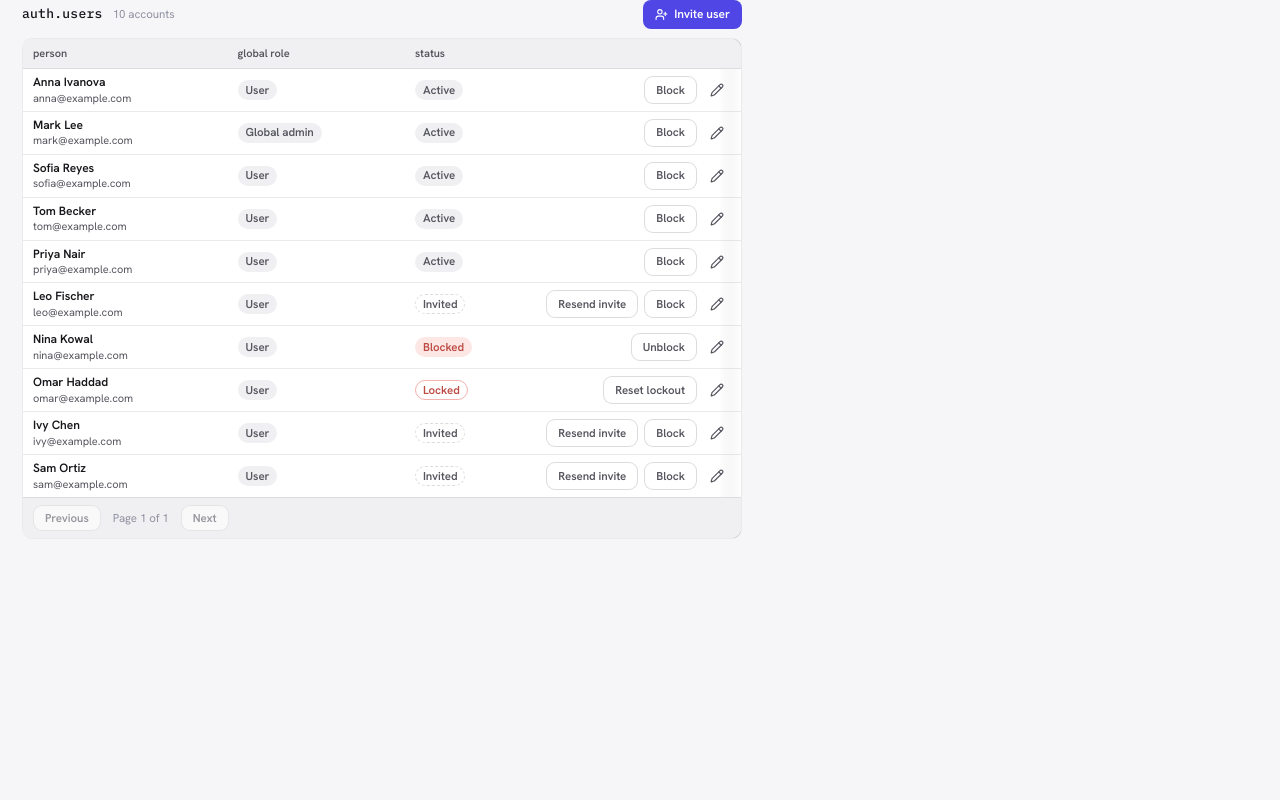
Test case: the admin Users section › names the transition, and the consequence peculiar to an invited account
Click the button with aria-label "Block Leo Fischer": (671, 304) [644,290,697,318]
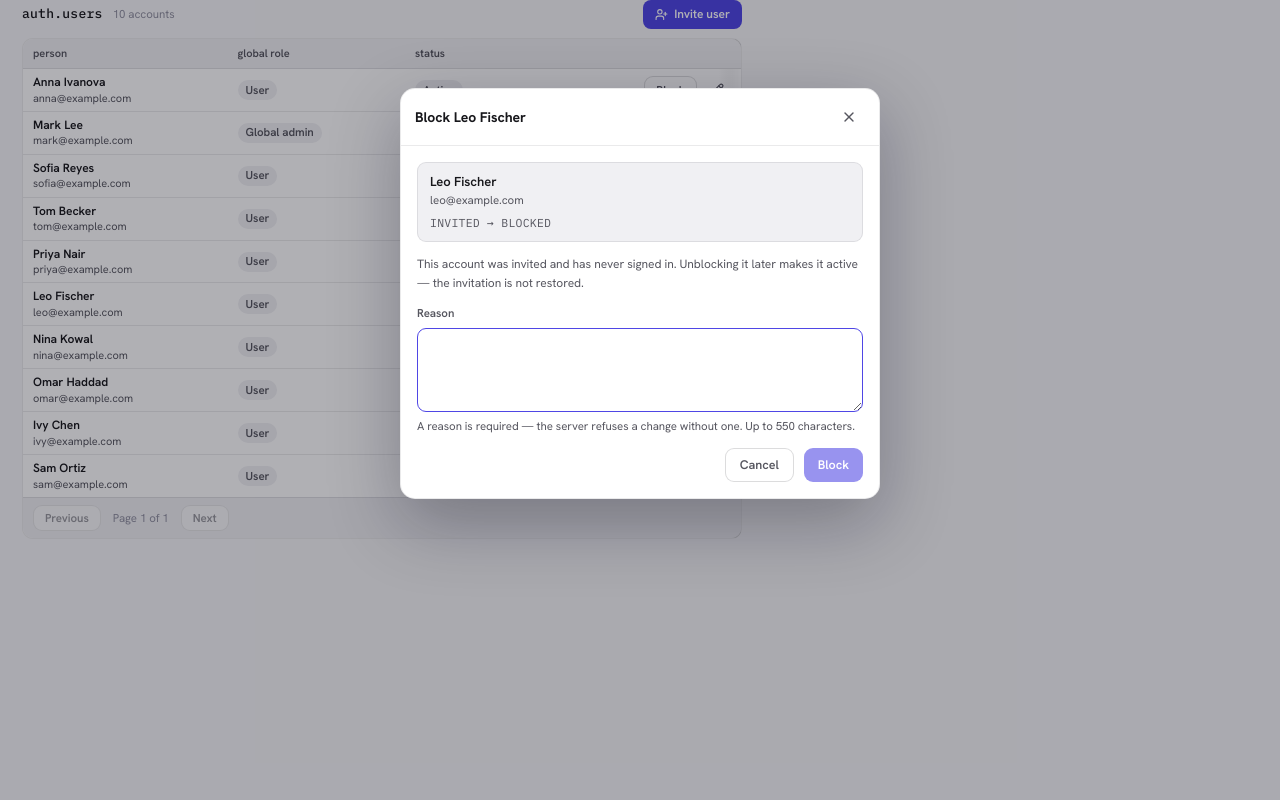
Now the text "INVITED → BLOCKED" is shown, box [430,214,551,230]
Now the text "the invitation is not restored" is shown, box [417,256,858,291]
Now the text "leo@example.com" is shown, box [430,192,524,207]
